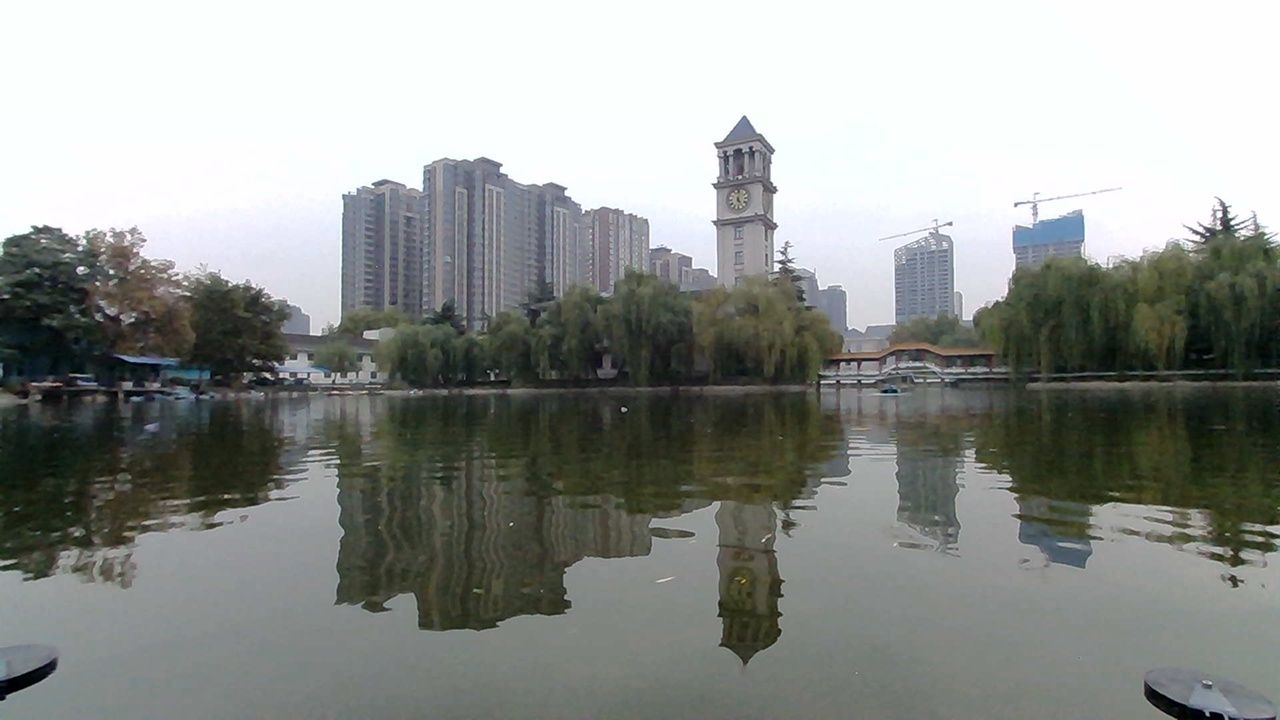bottle: (136, 416, 182, 448), (607, 391, 639, 418)
